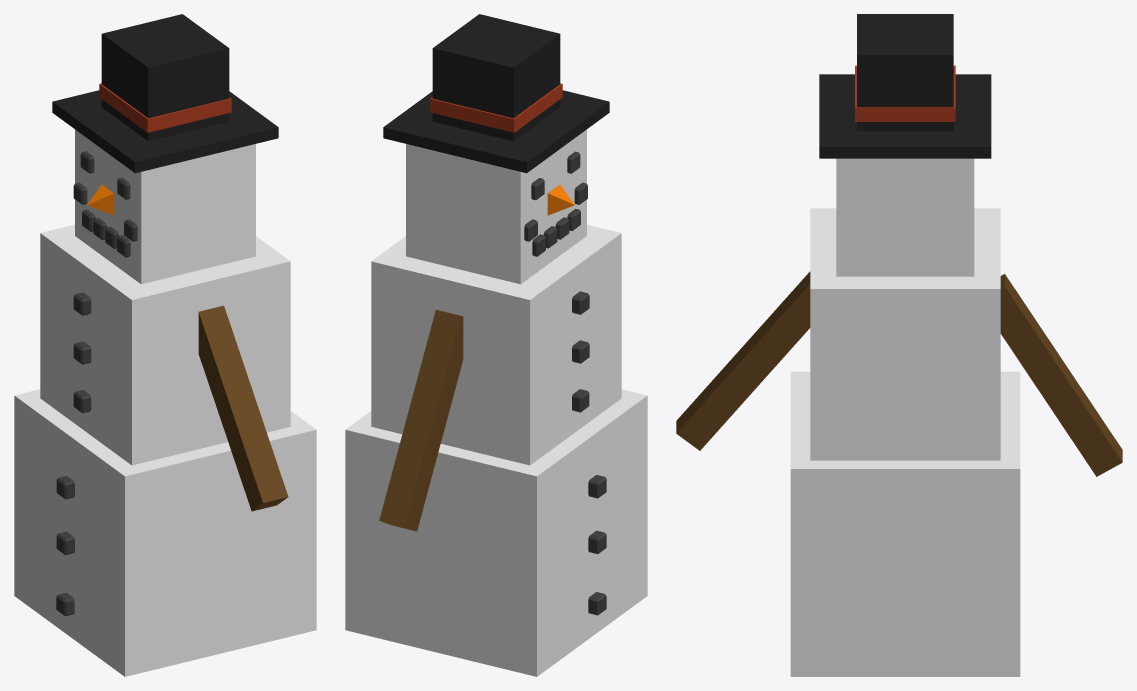
File: snowman.fbx
The picture shows the model from 3 angles, left to right: view 1: azimuth 30°, elevation 25°; view 2: azimuth 150°, elevation 25°; view 3: azimuth 270°, elevation 25°; orthographic projection. The views are drawn at different scales.
Parts seen in each view (by area): view 1: Cube, Cube.001, Cube.002, Cube.003; view 2: Cube, Cube.001, Cube.002, Cube.003; view 3: Cube, Cube.001, Cube.002, Cube.003.
Boxes of the visible parts, x1=… form: Cube: x1=14, y1=389, x2=316, y2=676; Cube.001: x1=40, y1=224, x2=290, y2=465; Cube.002: x1=56, y1=129, x2=288, y2=616; Cube.003: x1=52, y1=14, x2=278, y2=173; Cube: x1=345, y1=389, x2=647, y2=676; Cube.001: x1=371, y1=224, x2=621, y2=465; Cube.002: x1=379, y1=129, x2=606, y2=615; Cube.003: x1=383, y1=14, x2=609, y2=173; Cube: x1=790, y1=371, x2=1020, y2=676; Cube.001: x1=810, y1=208, x2=1000, y2=460; Cube.002: x1=676, y1=158, x2=1122, y2=476; Cube.003: x1=819, y1=14, x2=991, y2=158.
Size of the model in its own units: 579 by 1568 by 1068.
1 material, 1 textured.
